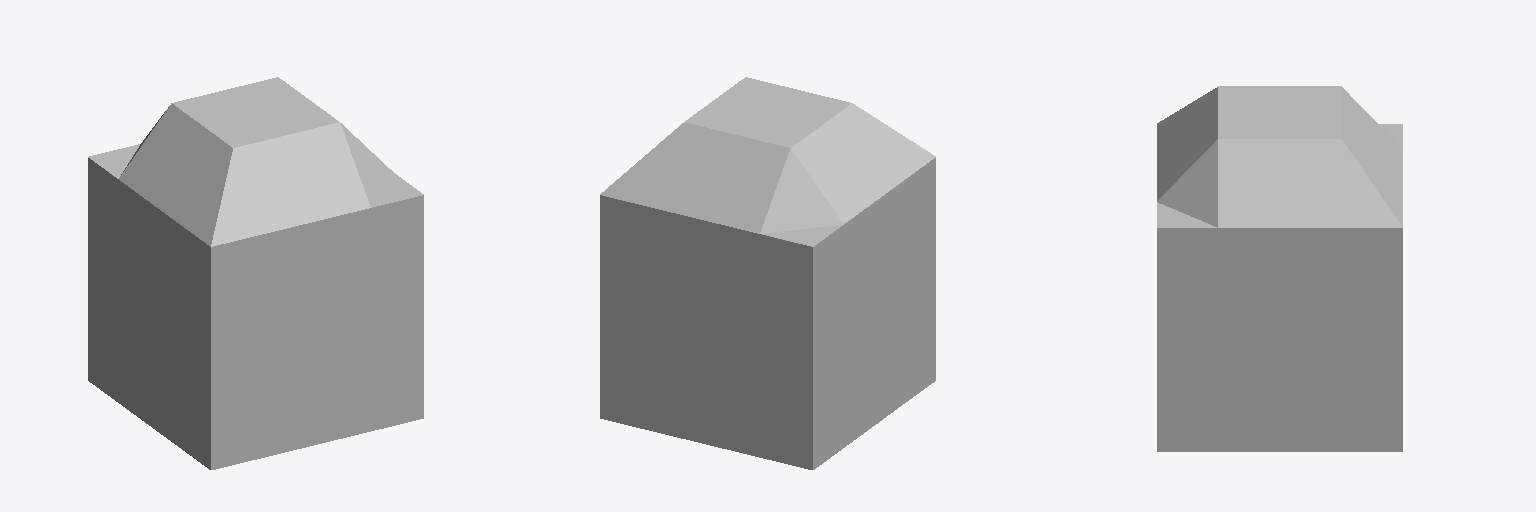
File: town.obj
The picture shows the model from 3 angles: view 1: azimuth 30°, elevation 25°; view 2: azimuth 150°, elevation 25°; view 3: azimuth 270°, elevation 25°; orthographic projection.
Parts seen in each view (by area): view 1: Cube; view 2: Cube; view 3: Cube.
Part boxes in pixels (x1,y1,x2,y2): Cube: (88,77,423,469); Cube: (600,77,935,469); Cube: (1157,86,1402,451).
Size of the model in its own units: 2 by 2.57 by 2.